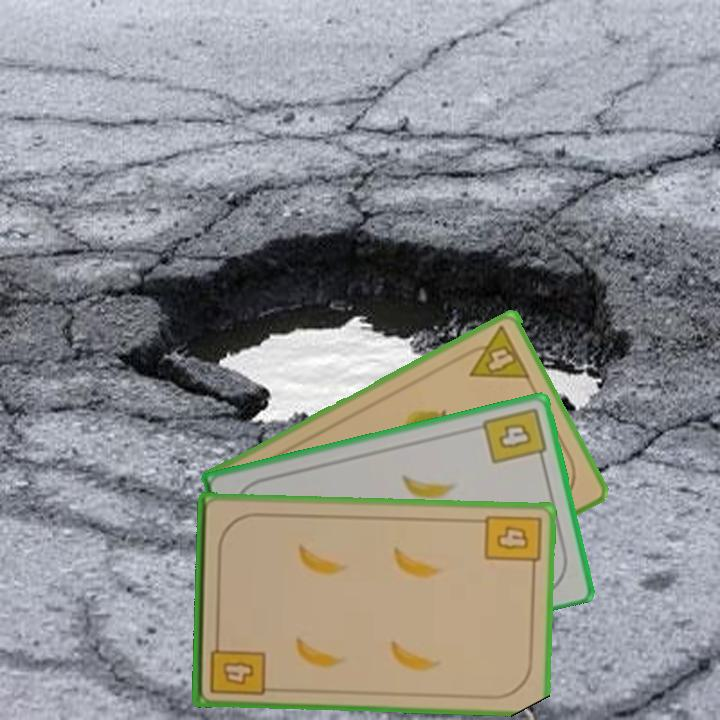4b: (479, 403, 549, 467), (206, 633, 267, 699), (481, 511, 543, 575)
4p: (458, 322, 533, 382)
